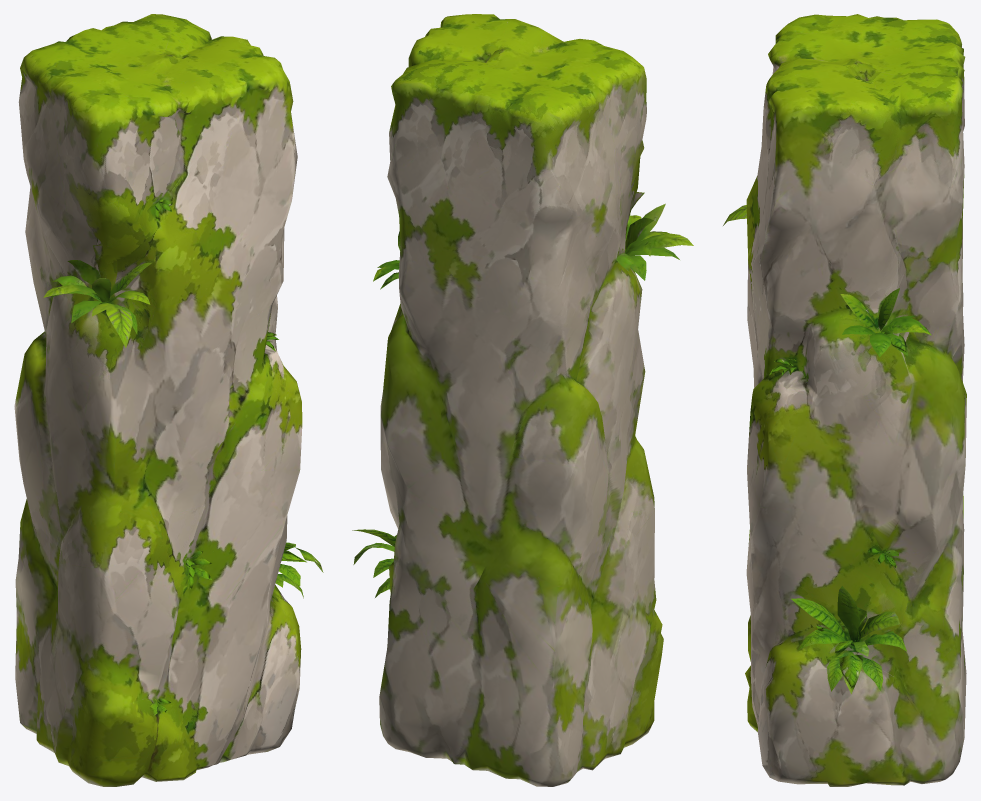
Rendered from RiverRock.fbx.
The picture shows the model from 3 angles, left to right: view 1: azimuth 30°, elevation 25°; view 2: azimuth 150°, elevation 25°; view 3: azimuth 270°, elevation 25°; orthographic projection.
Visible parts, largest first — view 1: RiverRock; view 2: RiverRock; view 3: RiverRock.
Part boxes in pixels (<box>): RiverRock: <box>14,14,323,786</box>; RiverRock: <box>352,14,693,786</box>; RiverRock: <box>723,14,966,786</box>.
Size of the model in its own units: 0.4784 by 1 by 0.3244.
1 material, 1 textured.
